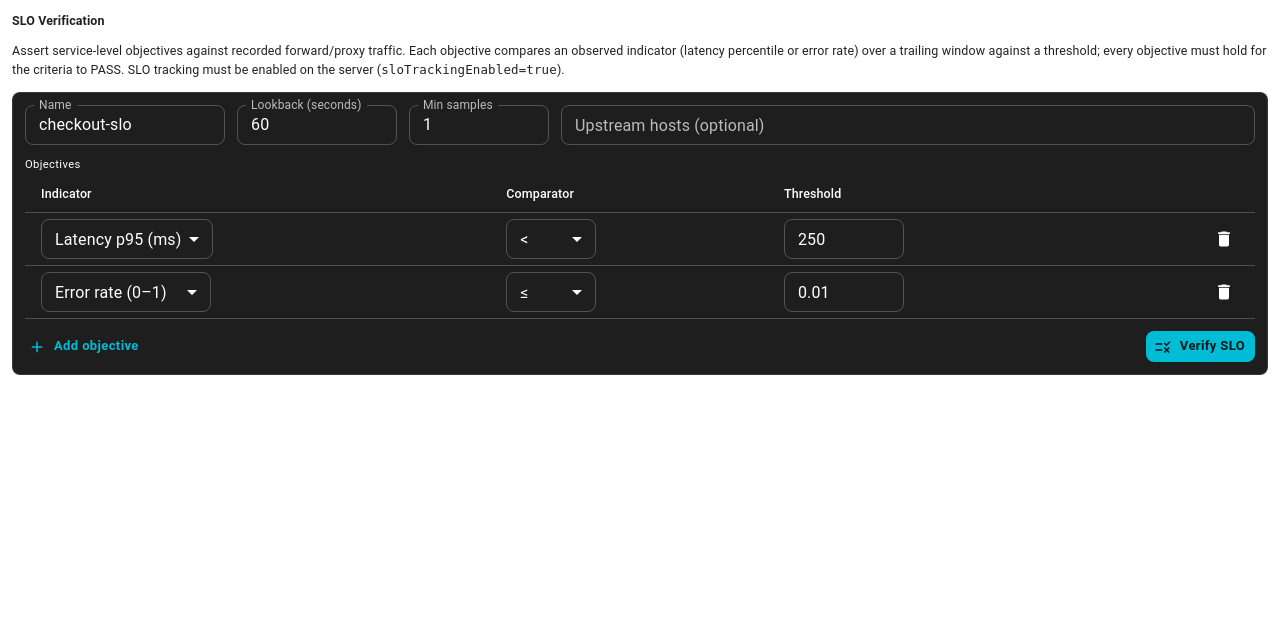
Test case: SloPanel › renders a FAIL verdict (delivered as a 406) with the breaching observed value
Click the button "Verify SLO" at (1200, 347), box x1=1146 y1=331 x2=1255 y2=362
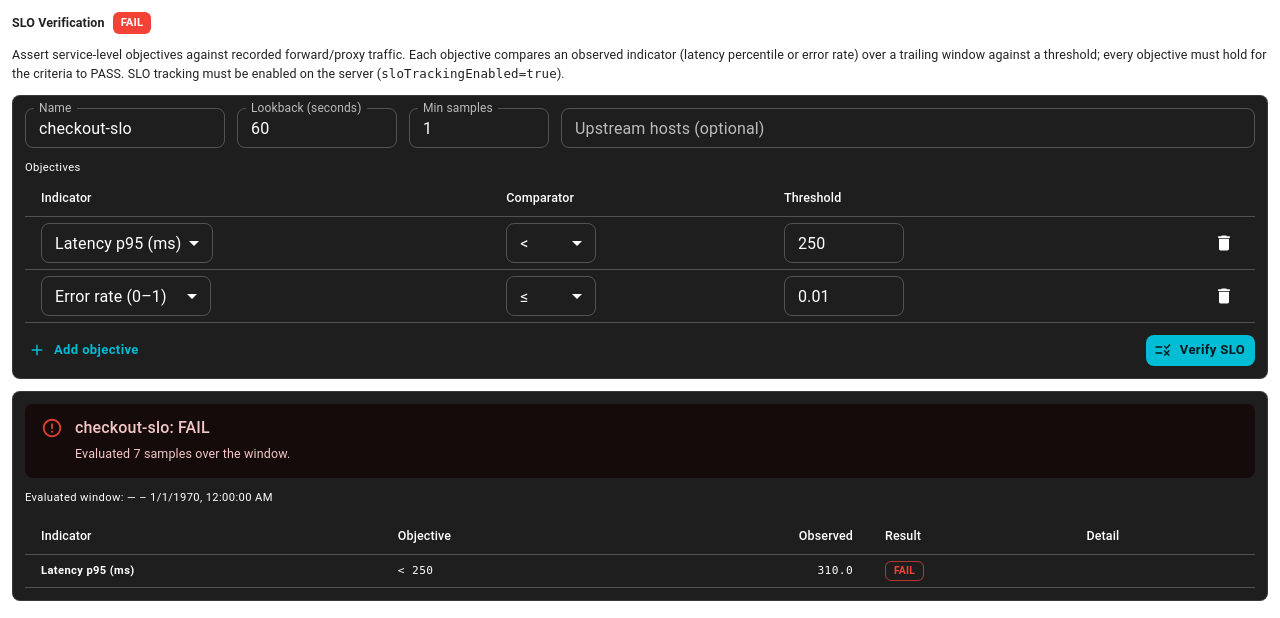
Expected: the text "checkout-slo: FAIL" is shown, x1=75 y1=418 x2=210 y2=437
Expected: the text "310.0" is shown, x1=818 y1=564 x2=853 y2=578
Expected: the text "FAIL" next to "SLO Verification" is shown, x1=121 y1=16 x2=143 y2=29
